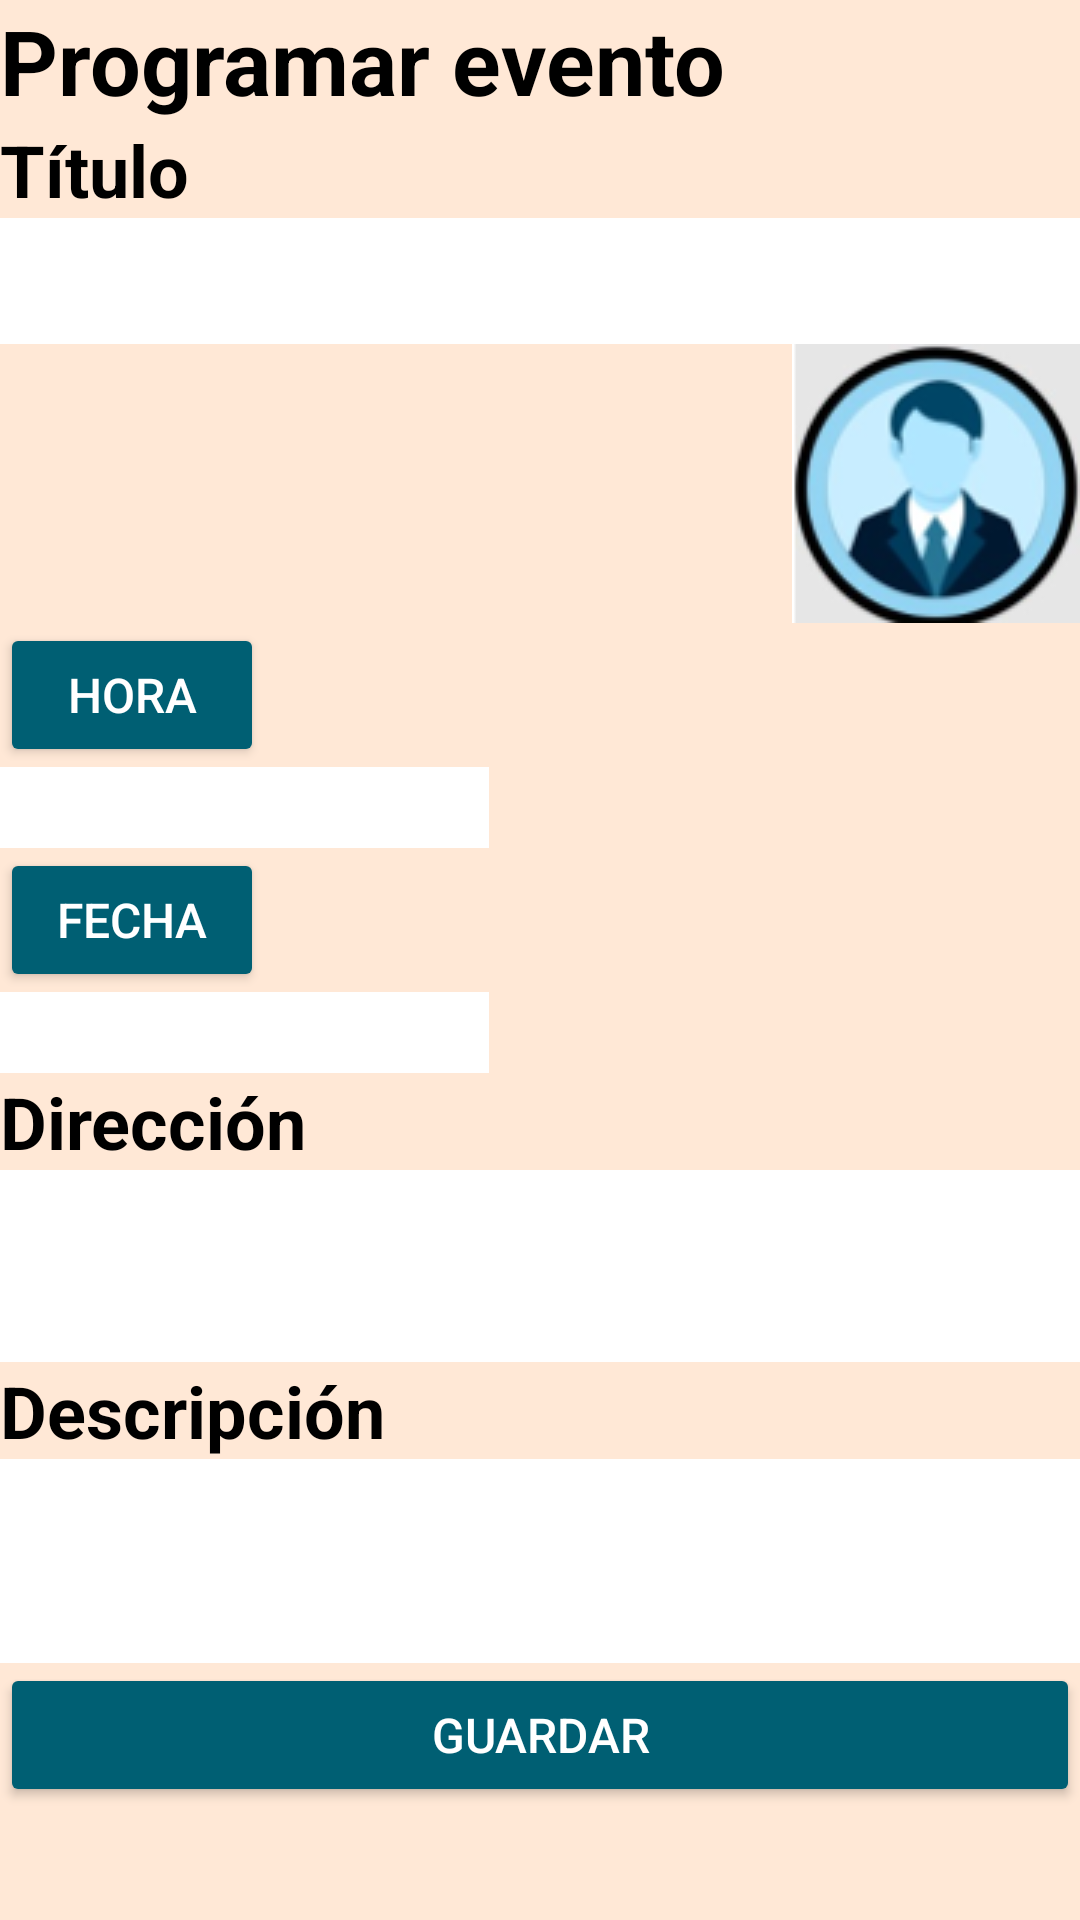

Locate icon controls on the screen. Image size 1080px x 1920px, boxes as Rect(x1, y1, x2, y2).
perfil: Rect(792, 344, 1080, 623)
